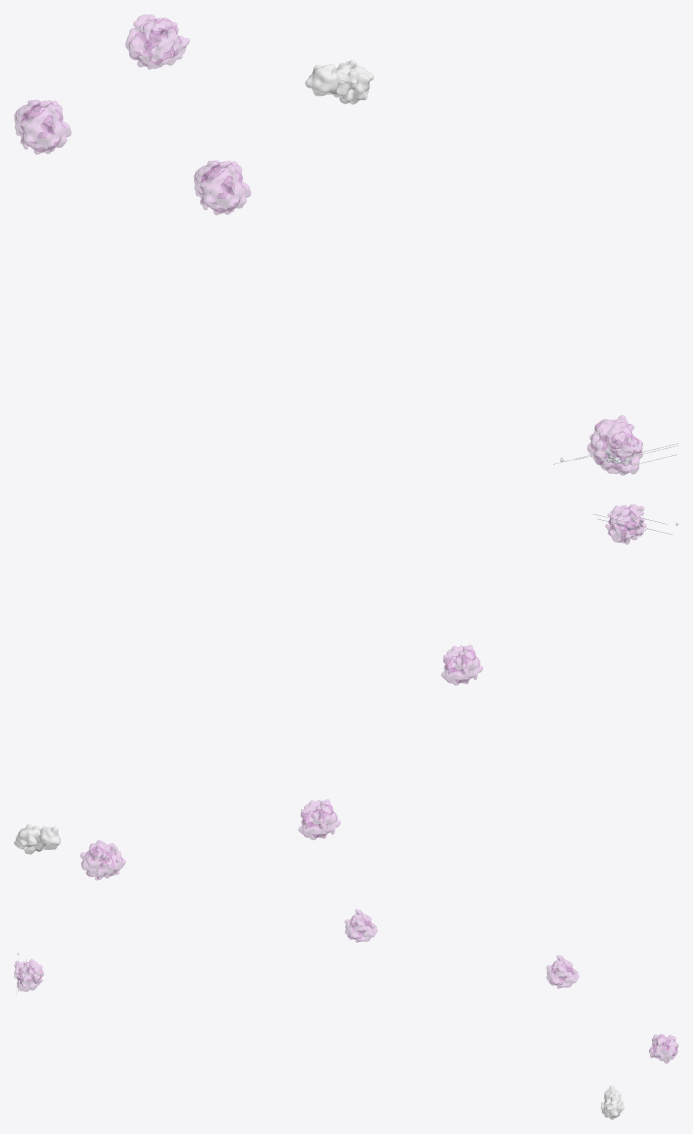
The model's file is molecule.gltf.
3 views of the same model, one above another, from view 1: azimuth 30°, elevation 25°; view 2: azimuth 150°, elevation 25°; view 3: azimuth 270°, elevation 25° (orthographic). The views are drawn at different scales.
Visible parts, largest first — view 1: KRAS_low_poly (×3), KRAS, molecule_05; view 2: KRAS_low_poly (×3), KRAS, molecule_05; view 3: KRAS_low_poly (×3), KRAS, molecule_05.
Boxes of the visible parts, x1=… form: KRAS_low_poly (×3): x1=14, y1=14, x2=250, y2=214; KRAS: x1=587, y1=415, x2=642, y2=475; molecule_05: x1=305, y1=60, x2=373, y2=104; KRAS_low_poly (×3): x1=80, y1=645, x2=482, y2=880; KRAS: x1=605, y1=504, x2=646, y2=544; molecule_05: x1=14, y1=824, x2=60, y2=854; KRAS_low_poly (×3): x1=345, y1=909, x2=678, y2=1063; KRAS: x1=14, y1=959, x2=43, y2=991; molecule_05: x1=601, y1=1085, x2=624, y2=1119.
Size of what is drawn, in the model's own units: 1808 by 890 by 4775.
